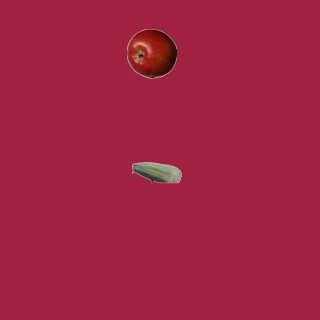Apple Braeburn: (126, 28, 176, 78)
Corn Husk: (131, 147, 181, 197)
